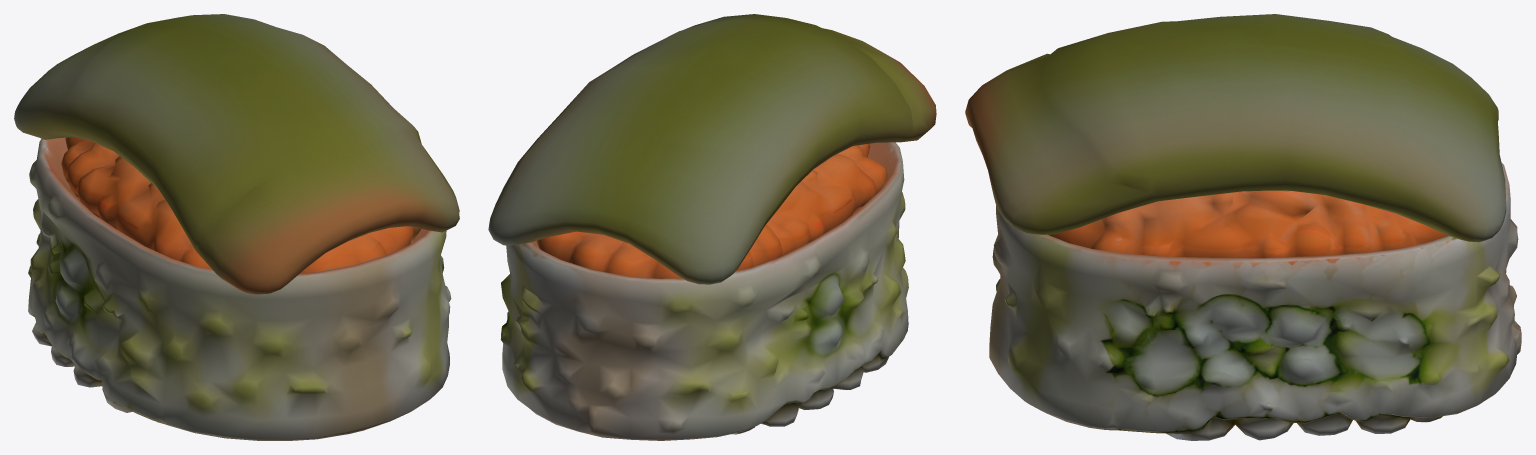
Rendered from tile26.glb.
The picture shows the model from 3 angles, left to right: view 1: azimuth 30°, elevation 25°; view 2: azimuth 150°, elevation 25°; view 3: azimuth 270°, elevation 25°; orthographic projection. The views are drawn at different scales.
Parts seen in each view (by area): view 1: tripo_node_a7019296-75c3-460f-b5a1-6862125a87d2; view 2: tripo_node_a7019296-75c3-460f-b5a1-6862125a87d2; view 3: tripo_node_a7019296-75c3-460f-b5a1-6862125a87d2.
Part boxes in pixels (x1,y1,x2,y2): tripo_node_a7019296-75c3-460f-b5a1-6862125a87d2: (14, 14, 459, 440); tripo_node_a7019296-75c3-460f-b5a1-6862125a87d2: (488, 14, 936, 440); tripo_node_a7019296-75c3-460f-b5a1-6862125a87d2: (965, 14, 1521, 440).
Bounding box in the file's own units: 1.34 × 1.21 × 1.86.
1 material, 1 textured.
